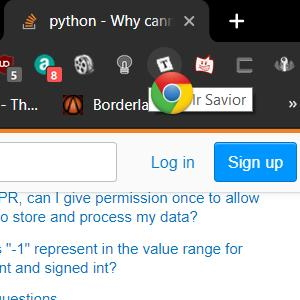chrome: (150, 70, 194, 115)
